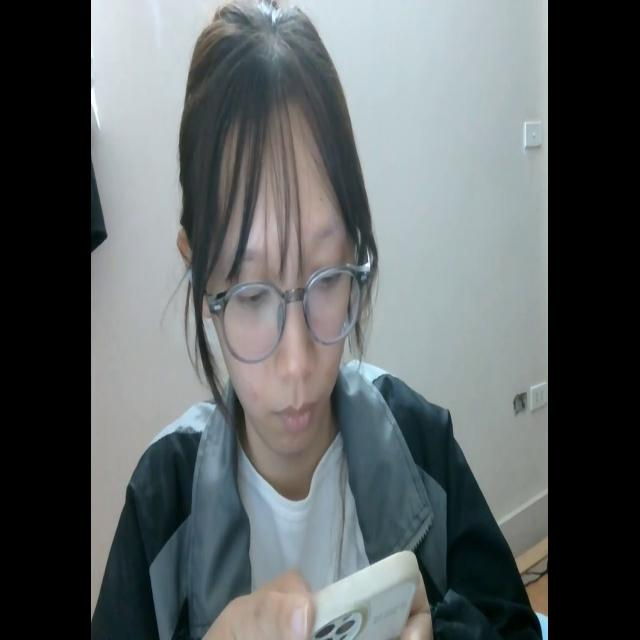phone: (291, 544, 419, 640)
student: (98, 8, 540, 640)
